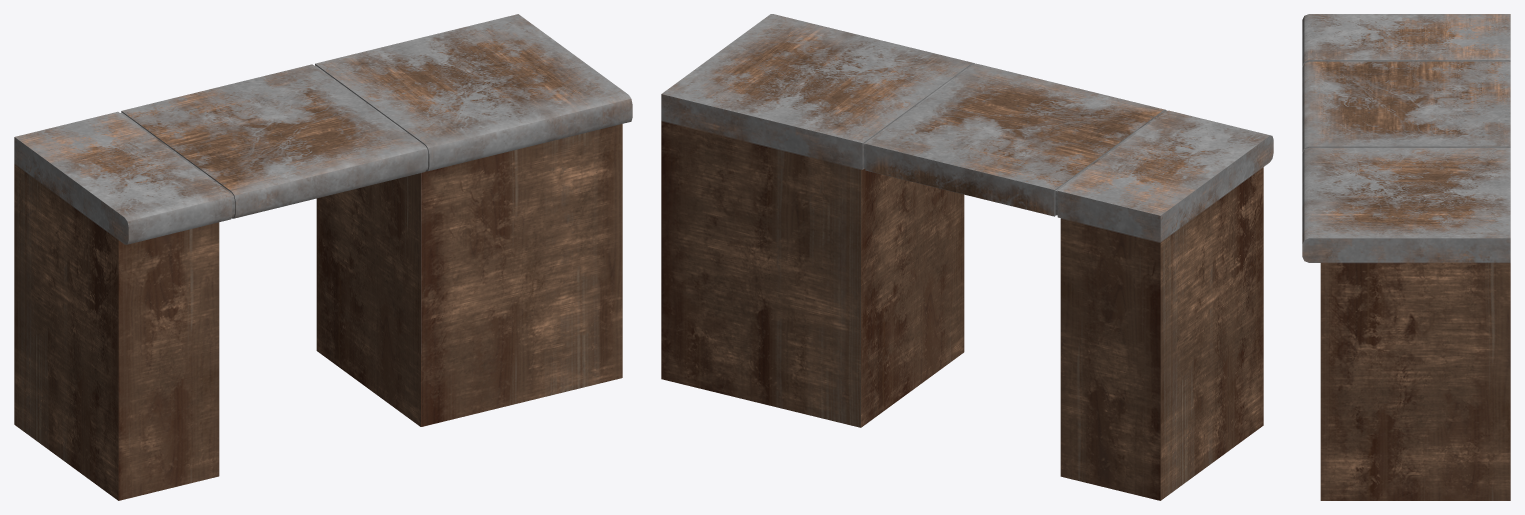
The model's file is counter_top_hatch.glb.
3 views of the same model, side by side, from view 1: azimuth 30°, elevation 25°; view 2: azimuth 150°, elevation 25°; view 3: azimuth 270°, elevation 25° (orthographic). The views are drawn at different scales.
Parts seen in each view (by area): view 1: pCube5; view 2: pCube5; view 3: pCube5.
Part boxes in pixels (bbox=[...]): pCube5: bbox=[14, 14, 632, 500]; pCube5: bbox=[661, 14, 1273, 500]; pCube5: bbox=[1302, 14, 1510, 500].
Bounding box in the file's own units: 168 × 91.76 × 65.96.
1 material, 1 textured.
